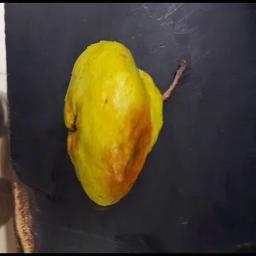Pear Rotten: (53, 35, 192, 217)
